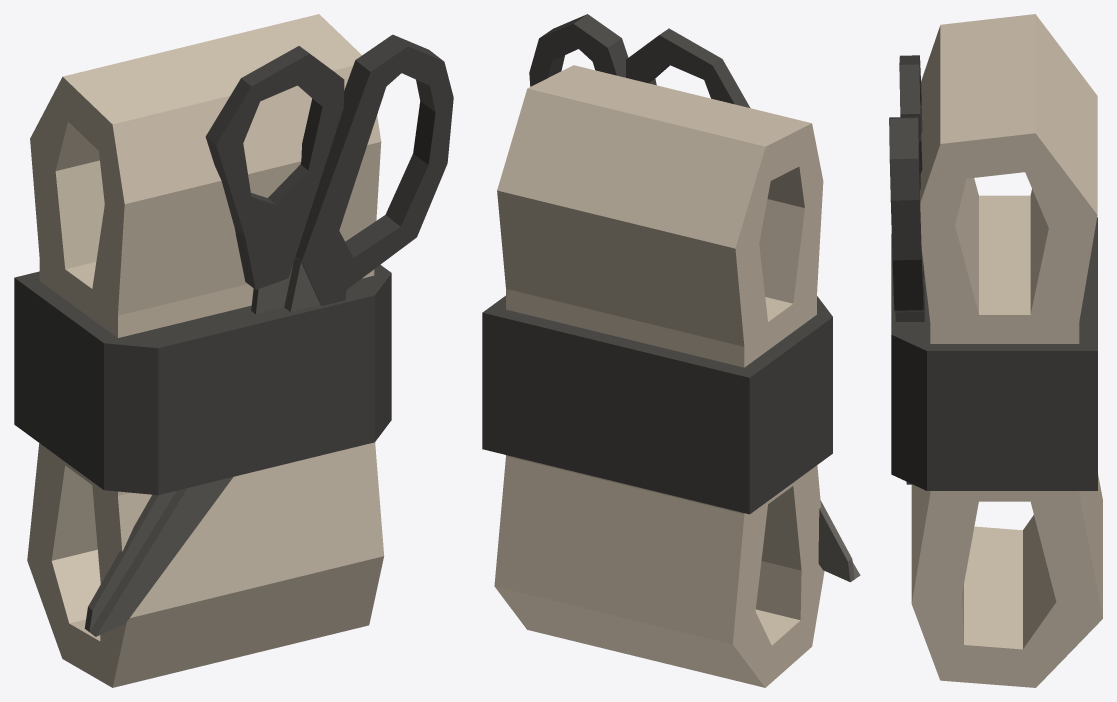
Rendered from Bandage_01_SM.FBX.
3 views of the same model, side by side, from view 1: azimuth 30°, elevation 25°; view 2: azimuth 150°, elevation 25°; view 3: azimuth 270°, elevation 25° (orthographic). The views are drawn at different scales.
Parts seen in each view (by area): view 1: Bandage_01_SM; view 2: Bandage_01_SM; view 3: Bandage_01_SM.
Part boxes in pixels (left/top/right/bottom): Bandage_01_SM: left=14, top=14, right=453, bottom=687; Bandage_01_SM: left=482, top=14, right=860, bottom=687; Bandage_01_SM: left=889, top=14, right=1102, bottom=687.
Size of what is drawn, in the model's own units: 8.75 by 4.87 by 14.71.
